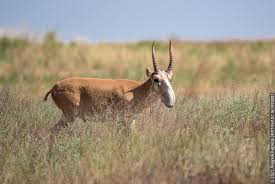saiga: (42, 41, 177, 148)
